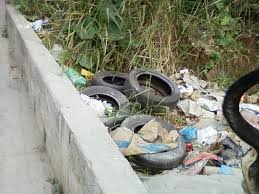tire: (120, 115, 186, 173), (74, 87, 130, 131), (124, 69, 180, 112), (93, 71, 132, 91)
